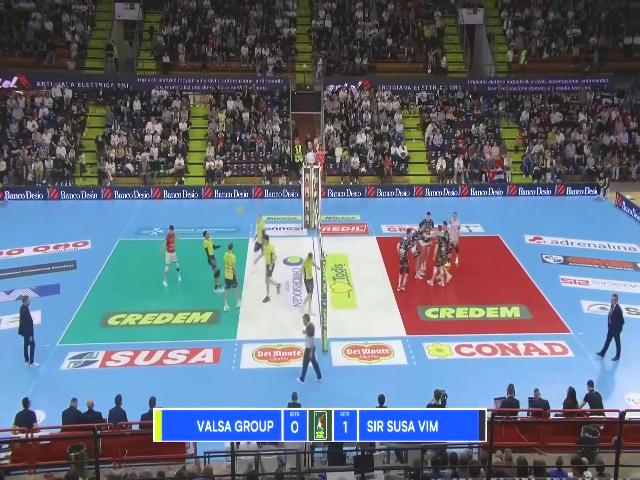volleyball court: (55, 232, 572, 344)
